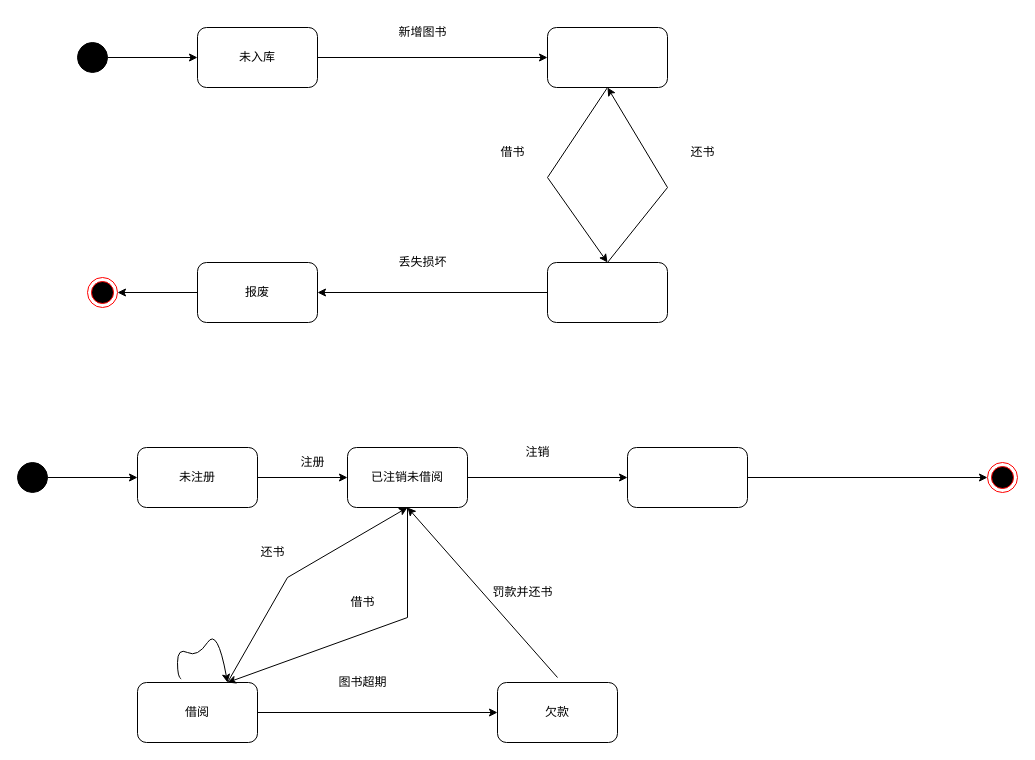
The diagram is 1035 pixels wide and 760 high, and some of its shapes have lost their labels. Here are the shapes that lost their labels. From the top down, the box of each, then its label:
(546, 26, 668, 88): 在库
(546, 262, 668, 322): 借出
(626, 446, 748, 508): 注销状态
